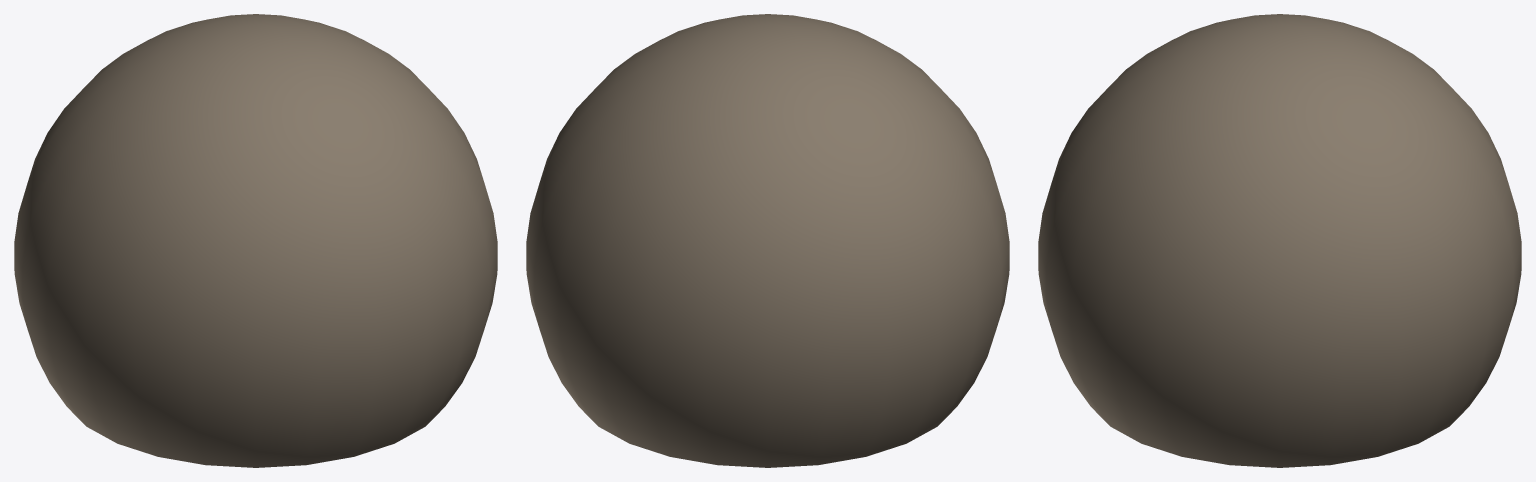
File: ponytail.glb
The picture shows the model from 3 angles, left to right: view 1: azimuth 30°, elevation 25°; view 2: azimuth 150°, elevation 25°; view 3: azimuth 270°, elevation 25°; orthographic projection.
Visible parts, largest first — view 1: Hair_ponytail; view 2: Hair_ponytail; view 3: Hair_ponytail.
Part boxes in pixels (bbox=[...]): Hair_ponytail: bbox=[14, 14, 497, 467]; Hair_ponytail: bbox=[526, 14, 1009, 467]; Hair_ponytail: bbox=[1038, 14, 1521, 467].
Bounding box in the file's own units: 2.16 × 1.71 × 2.16.
